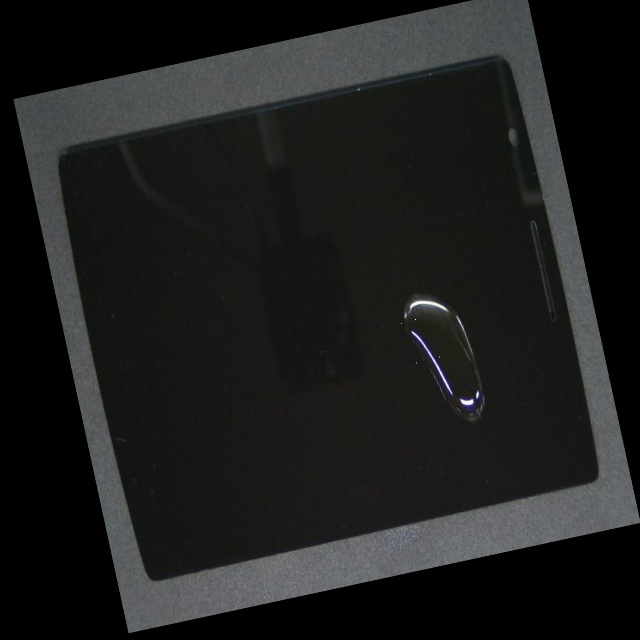oil: (218, 111, 605, 468)
